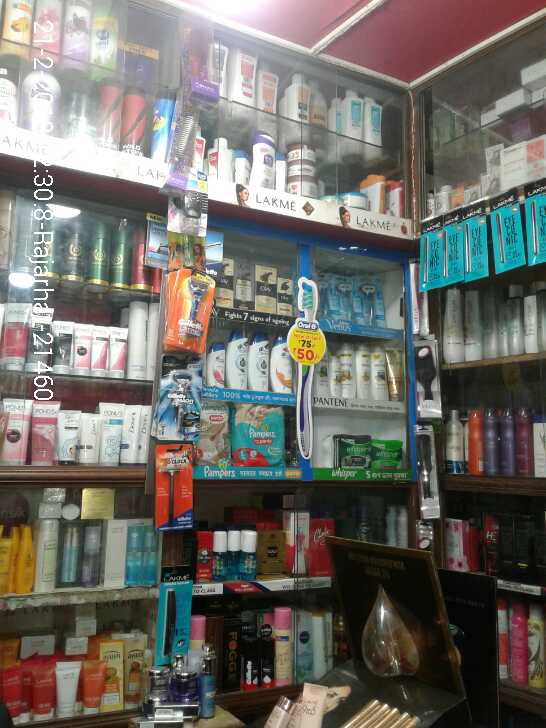gillete: (164, 273, 213, 353), (160, 357, 201, 437), (156, 444, 191, 528), (243, 637, 260, 692), (261, 639, 276, 687)
venus: (356, 277, 386, 326), (334, 277, 356, 321), (319, 273, 334, 321)
